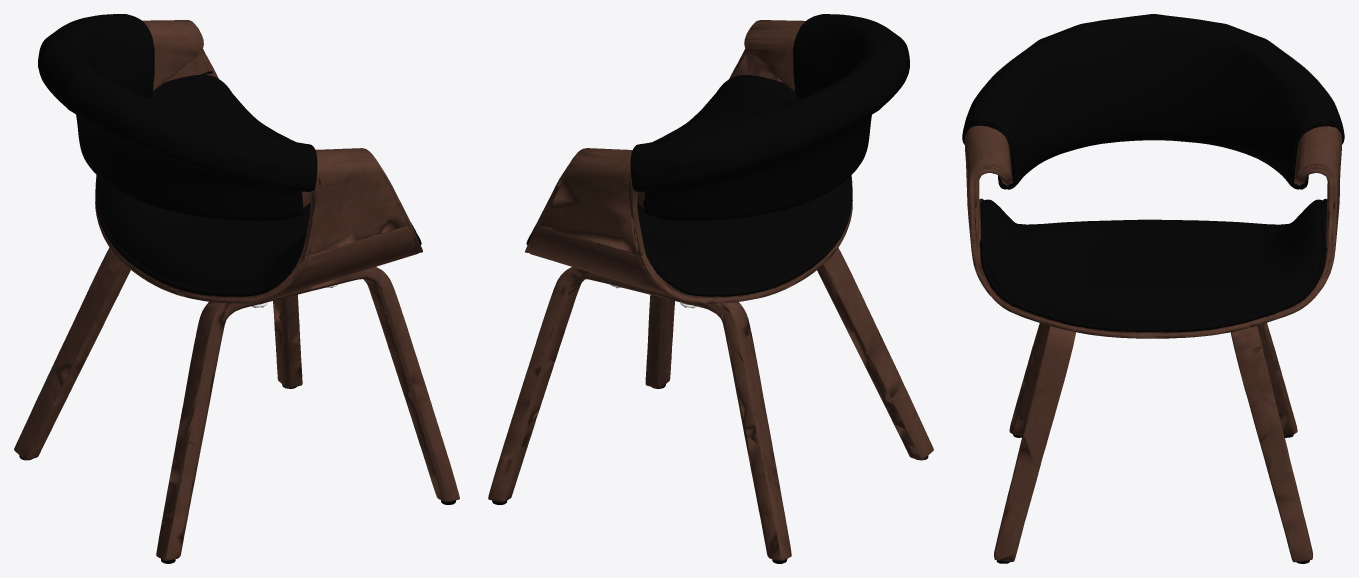
Rendered from ND-0603__Binsa3.glb.
3 views of the same model, side by side, from view 1: azimuth 30°, elevation 25°; view 2: azimuth 150°, elevation 25°; view 3: azimuth 270°, elevation 25° (orthographic). The views are drawn at different scales.
Parts seen in each view (by area): view 1: tripo_node_ed3c0e22-6fbc-44c6-a50c-144b1afcc120, tripo_node_ed3c0e22-6fbc-44c6-a50c-144b1afcc120.001, tripo_node_ed3c0e22-6fbc-44c6-a50c-144b1afcc120.004; view 2: tripo_node_ed3c0e22-6fbc-44c6-a50c-144b1afcc120, tripo_node_ed3c0e22-6fbc-44c6-a50c-144b1afcc120.001, tripo_node_ed3c0e22-6fbc-44c6-a50c-144b1afcc120.004; view 3: tripo_node_ed3c0e22-6fbc-44c6-a50c-144b1afcc120.001, tripo_node_ed3c0e22-6fbc-44c6-a50c-144b1afcc120.004, tripo_node_ed3c0e22-6fbc-44c6-a50c-144b1afcc120.
Part boxes in pixels (<box>): tripo_node_ed3c0e22-6fbc-44c6-a50c-144b1afcc120: <box>14,20,459,560</box>; tripo_node_ed3c0e22-6fbc-44c6-a50c-144b1afcc120.001: <box>38,14,317,220</box>; tripo_node_ed3c0e22-6fbc-44c6-a50c-144b1afcc120.004: <box>95,71,421,296</box>; tripo_node_ed3c0e22-6fbc-44c6-a50c-144b1afcc120: <box>488,20,933,561</box>; tripo_node_ed3c0e22-6fbc-44c6-a50c-144b1afcc120.001: <box>630,14,909,220</box>; tripo_node_ed3c0e22-6fbc-44c6-a50c-144b1afcc120.004: <box>526,75,852,296</box>; tripo_node_ed3c0e22-6fbc-44c6-a50c-144b1afcc120.001: <box>962,14,1344,189</box>; tripo_node_ed3c0e22-6fbc-44c6-a50c-144b1afcc120.004: <box>979,198,1327,332</box>; tripo_node_ed3c0e22-6fbc-44c6-a50c-144b1afcc120: <box>964,125,1341,562</box>.
Bounding box in the file's own units: 0.7224 × 0.9777 × 0.8156.
Materials: 8 (1 with a texture image).
